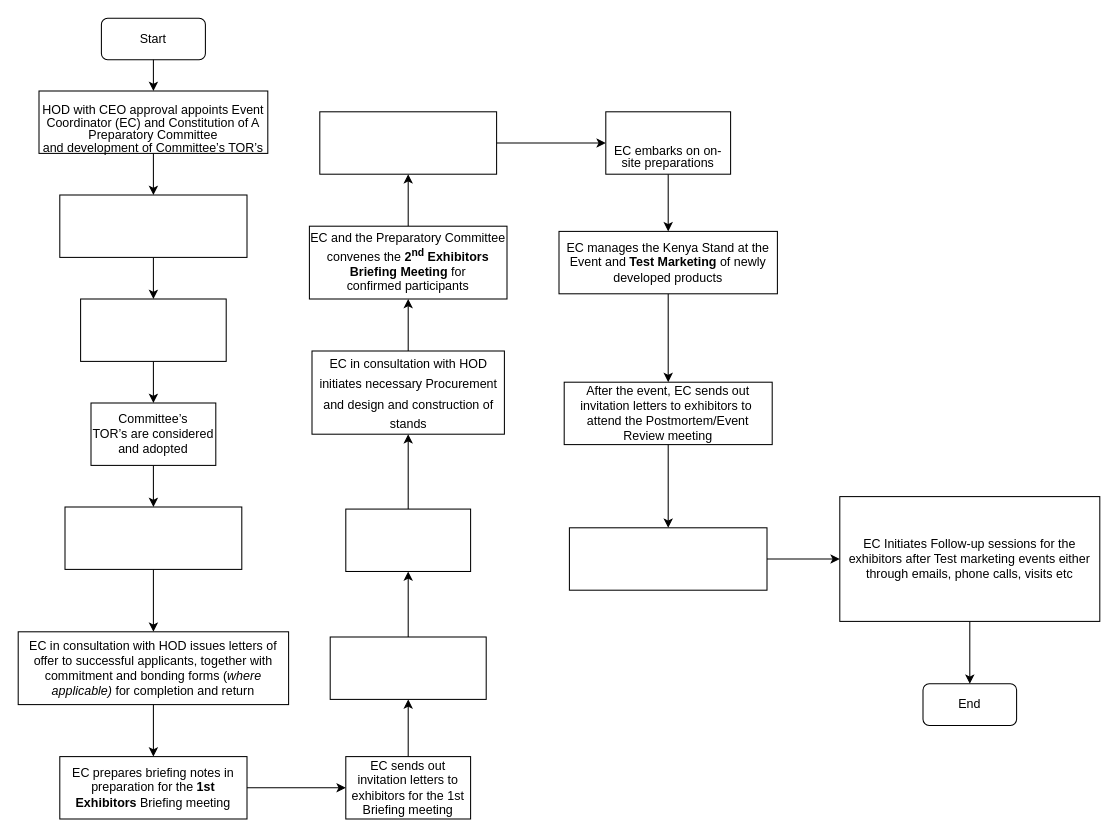
The diagram is 1118 pixels wide and 837 high, and some of its shapes have lost their labels. The box of each missing label's shape, as (x1, y1, x2, y2) in pixels:
EC convenes the 1 st Exhibitors Briefing Meeting for shortlisted participants: (329, 636, 486, 699)
EC convenes the Postmortem/ Event Review meeting for participants: (568, 527, 767, 590)
EC forwards the list of Confirmed exhibitors to various partners: (345, 508, 471, 571)
EC in consultation with HOD prepares the initial countdown of activities: (59, 194, 247, 257)
EC initiates the booking and payment for exhibition space and other facilities: (64, 506, 242, 569)
EC send invitation of Preparatory Committee to 1 st Committee meeting: (80, 298, 226, 361)
HOD and accompanying officers initiates imprest request to undertake the event: (319, 111, 497, 174)
